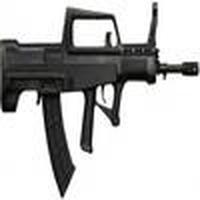gun: (1, 31, 200, 118)
